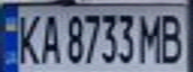3: (115, 10, 139, 64), (100, 9, 121, 65)
7: (81, 10, 103, 64)
8: (60, 11, 84, 64)
A: (36, 10, 63, 65)
B: (157, 9, 190, 64)
K: (12, 9, 45, 66)
M: (136, 10, 166, 64)
